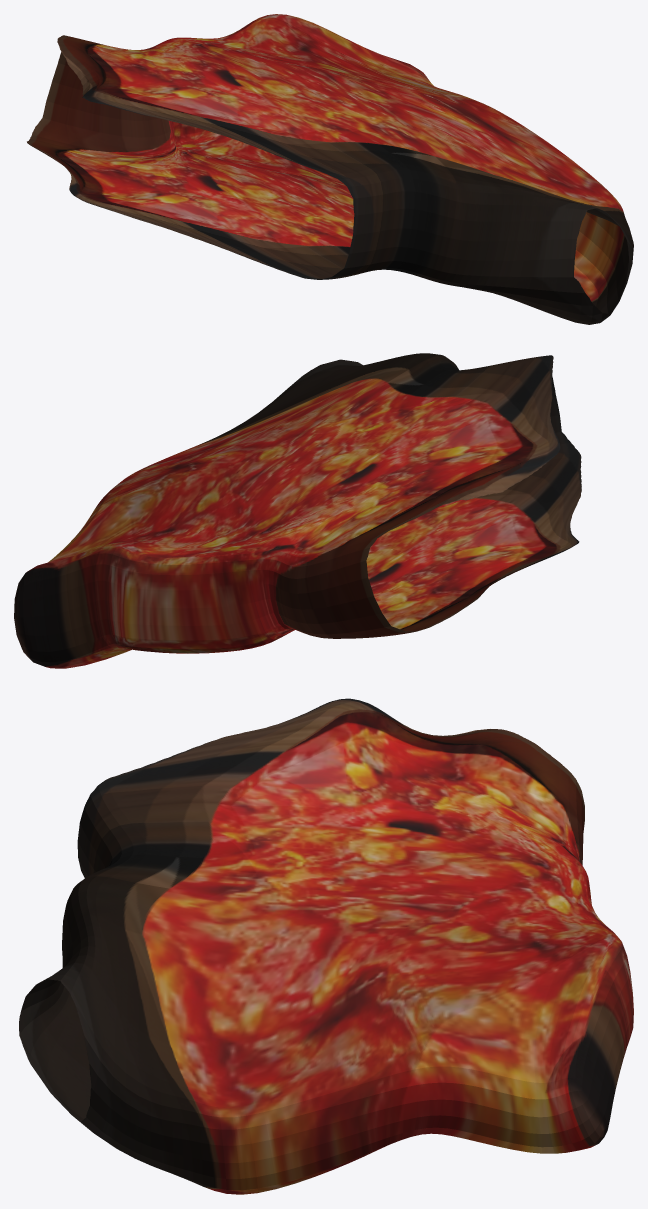
Rendered from SambalPoured.fbx.
3 renders of one model, top to bottom at view 1: azimuth 30°, elevation 25°; view 2: azimuth 150°, elevation 25°; view 3: azimuth 270°, elevation 25°, orthographic. The views are drawn at different scales.
Visible parts, largest first — view 1: SambalPoured; view 2: SambalPoured; view 3: SambalPoured.
Boxes of the visible parts, <box> form: SambalPoured: <box>27,14,633,324</box>; SambalPoured: <box>14,353,581,668</box>; SambalPoured: <box>19,698,633,1194</box>.
Size of the model in its own units: 262 by 130 by 268.
